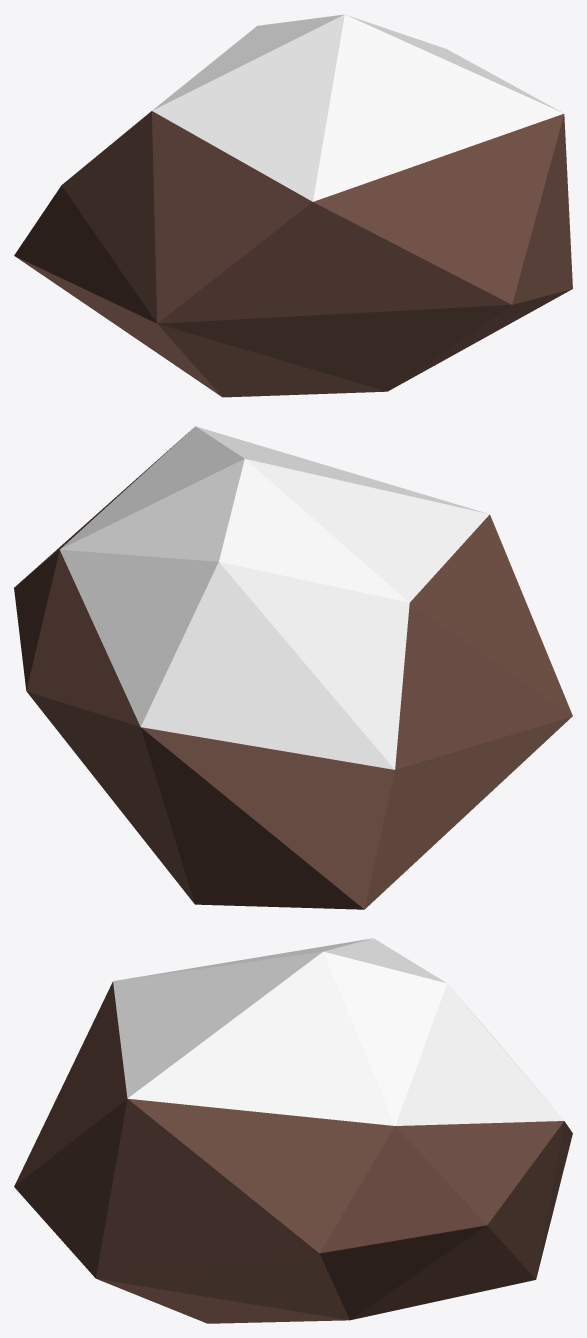
File: snow_stone_003.fbx
3 renders of one model, top to bottom at view 1: azimuth 30°, elevation 25°; view 2: azimuth 150°, elevation 25°; view 3: azimuth 270°, elevation 25°, orthographic. The views are drawn at different scales.
Visible parts, largest first — view 1: snow_stone_003; view 2: snow_stone_003; view 3: snow_stone_003.
Boxes of the visible parts, x1=… form: snow_stone_003: x1=14, y1=14, x2=572, y2=397; snow_stone_003: x1=14, y1=426, x2=572, y2=909; snow_stone_003: x1=14, y1=938, x2=572, y2=1323.
Size of the model in its own units: 98.34 by 94.64 by 75.99.
